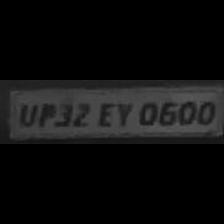0: (134, 99, 158, 127), (175, 97, 197, 125), (193, 97, 215, 125)
2: (68, 98, 90, 128)
3: (54, 98, 72, 128)
6: (157, 97, 177, 125)
E: (94, 100, 116, 128)
P: (35, 100, 53, 126)
U: (15, 100, 37, 126)
Y: (110, 100, 134, 128)
